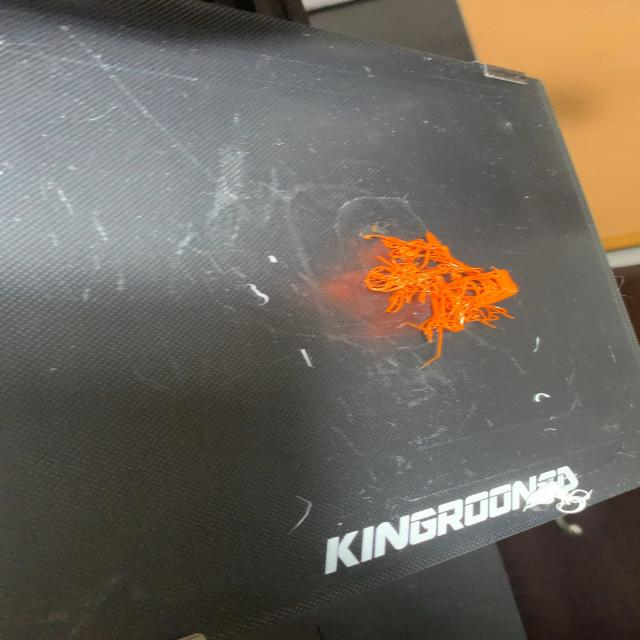spaghetti: (357, 227, 521, 370)
